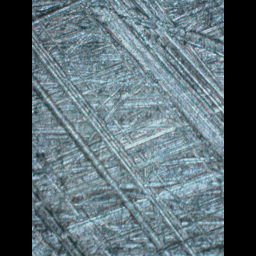d: (32, 1, 223, 255)
